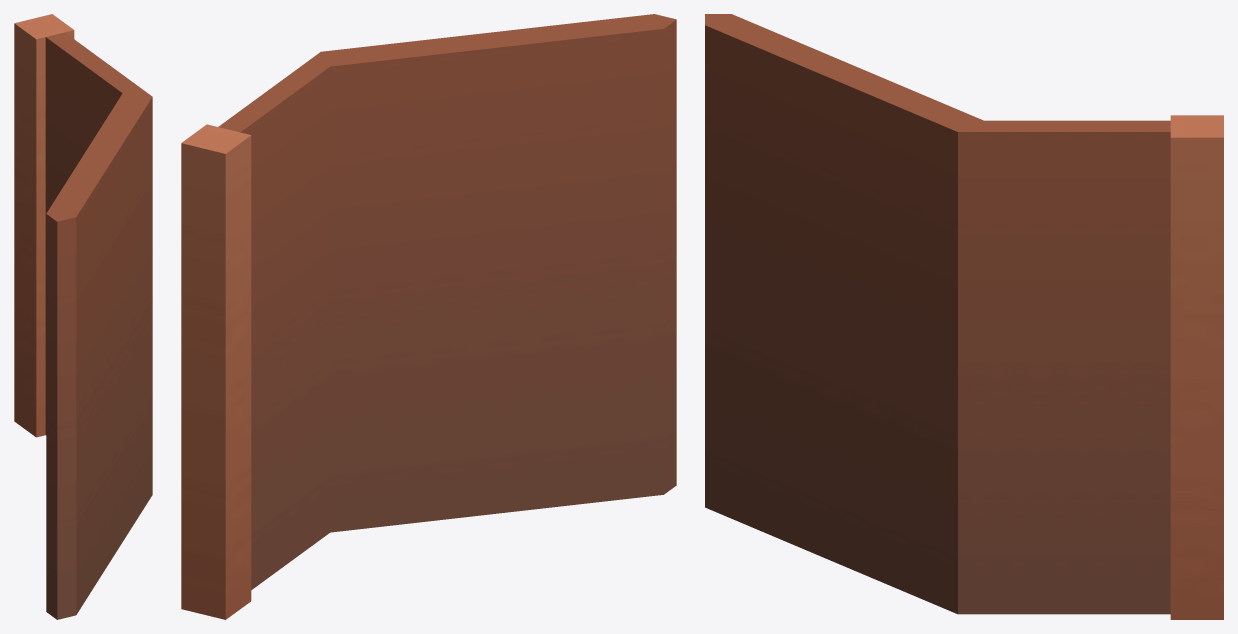
Rendered from wallWoodCornerDiagonalHalf.fbx.
3 views of the same model, side by side, from view 1: azimuth 30°, elevation 25°; view 2: azimuth 150°, elevation 25°; view 3: azimuth 270°, elevation 25° (orthographic). The views are drawn at different scales.
Parts seen in each view (by area): view 1: wallWoodCornerDiagonalHalf; view 2: wallWoodCornerDiagonalHalf; view 3: wallWoodCornerDiagonalHalf.
Part boxes in pixels (left/top/right/bottom): wallWoodCornerDiagonalHalf: left=14, top=14, right=152, bottom=619; wallWoodCornerDiagonalHalf: left=181, top=14, right=676, bottom=619; wallWoodCornerDiagonalHalf: left=705, top=14, right=1223, bottom=619.
Size of the model in its own units: 0.55 by 0.975 by 1.
